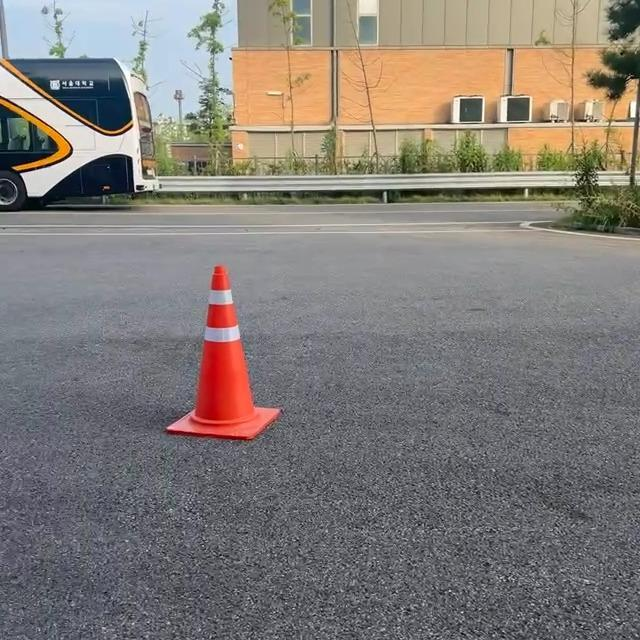fallen_object: (117, 251, 277, 451)
